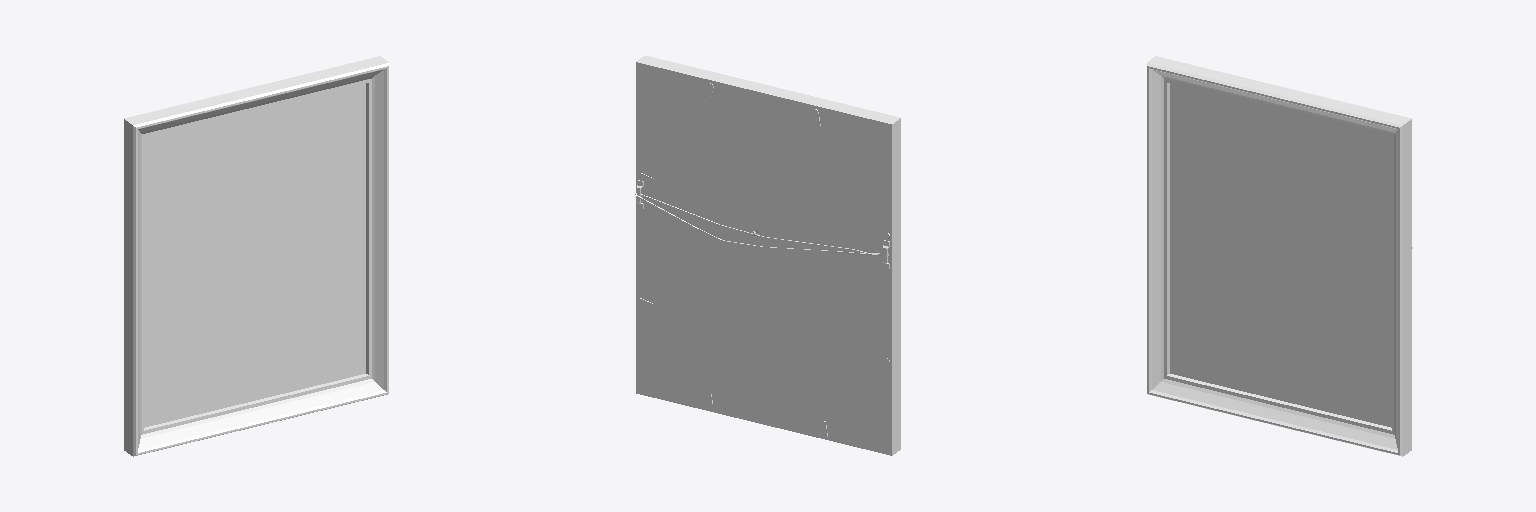
The model's file is pictureframe01a.obj.
3 views of the same model, side by side, from view 1: azimuth 30°, elevation 25°; view 2: azimuth 150°, elevation 25°; view 3: azimuth 330°, elevation 25° (orthographic).
Visible parts, largest first — view 1: LODGroup_1_MainMesh_1_Submesh_2, LODGroup_1_MainMesh_1_Submesh_1; view 2: LODGroup_1_MainMesh_1_Submesh_1; view 3: LODGroup_1_MainMesh_1_Submesh_2, LODGroup_1_MainMesh_1_Submesh_1.
Part boxes in pixels (x1,y1,x2,y2): LODGroup_1_MainMesh_1_Submesh_2: (144, 83, 365, 427); LODGroup_1_MainMesh_1_Submesh_1: (124, 56, 388, 456); LODGroup_1_MainMesh_1_Submesh_1: (635, 55, 900, 455); LODGroup_1_MainMesh_1_Submesh_2: (1170, 83, 1391, 427); LODGroup_1_MainMesh_1_Submesh_1: (1147, 56, 1412, 456).
Bounding box in the file's own units: 89.3 × 110 × 7.86.